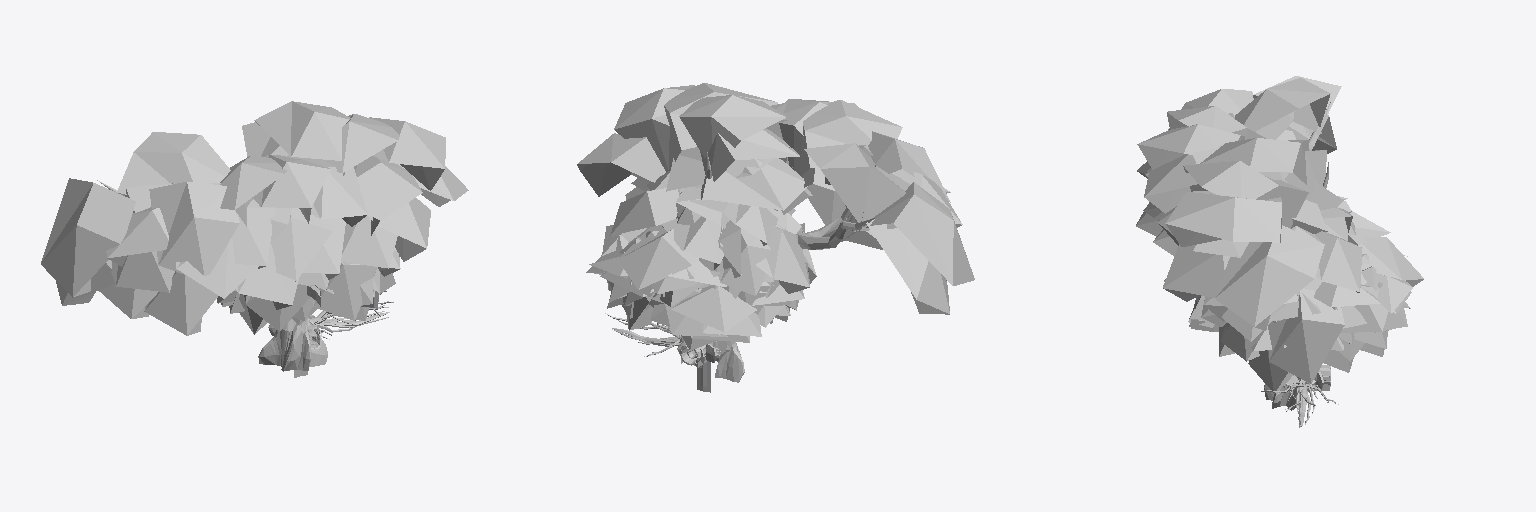
File: treeeeee.obj
3 renders of one model, left to right at view 1: azimuth 30°, elevation 25°; view 2: azimuth 150°, elevation 25°; view 3: azimuth 270°, elevation 25°, orthographic.
Parts seen in each view (by area): view 1: Plane.864_Plane.004, Plane.1060_Plane.003, branchmaster; view 2: Plane.864_Plane.004, Plane.1060_Plane.003, Plane.1000_Plane.024, branchmaster; view 3: Plane.864_Plane.004, Plane.1060_Plane.003, Plane.1000_Plane.024, branchmaster.
Boxes of the visible parts, box(x1,y1,x2,y2) form: Plane.864_Plane.004: box(41, 101, 468, 335); Plane.1060_Plane.003: box(218, 248, 399, 334); branchmaster: box(97, 180, 327, 371); Plane.864_Plane.004: box(577, 83, 974, 314); Plane.1060_Plane.003: box(607, 170, 816, 330); Plane.1000_Plane.024: box(586, 225, 804, 350); branchmaster: box(694, 152, 875, 382); Plane.864_Plane.004: box(1136, 76, 1343, 330); Plane.1060_Plane.003: box(1188, 196, 1423, 393); Plane.1000_Plane.024: box(1251, 254, 1412, 361); branchmaster: box(1264, 102, 1330, 410).
Size of the model in its own units: 7.58 by 5.11 by 4.75.